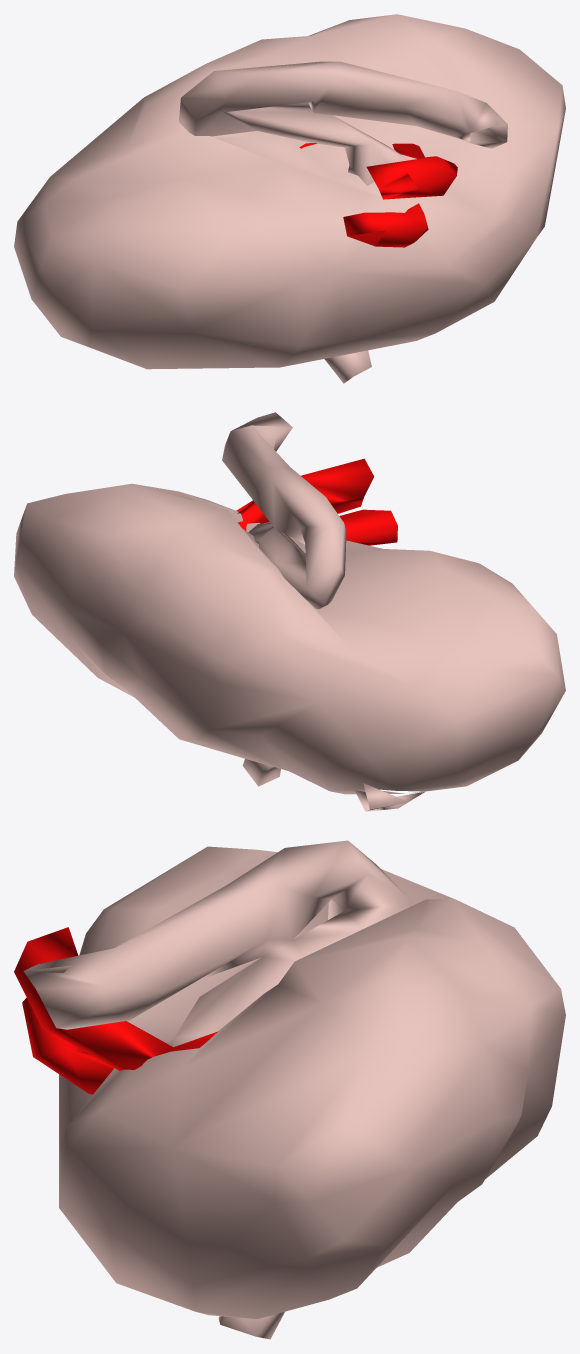
The model's file is lymph_node.glb.
3 views of the same model, one above another, from view 1: azimuth 30°, elevation 25°; view 2: azimuth 150°, elevation 25°; view 3: azimuth 270°, elevation 25° (orthographic). The views are drawn at different scales.
Parts seen in each view (by area): view 1: Yao_afferent_lymphatic_vessel, Yao_blood_vasculature; view 2: Yao_afferent_lymphatic_vessel, Yao_blood_vasculature; view 3: Yao_afferent_lymphatic_vessel, Yao_blood_vasculature.
Part boxes in pixels (x1,y1,x2,y2): Yao_afferent_lymphatic_vessel: (14, 14, 565, 383); Yao_blood_vasculature: (299, 143, 457, 247); Yao_afferent_lymphatic_vessel: (14, 412, 565, 811); Yao_blood_vasculature: (236, 458, 397, 545); Yao_afferent_lymphatic_vessel: (23, 840, 565, 1339); Yao_blood_vasculature: (14, 927, 217, 1094).
Size of the model in its own units: 0.0195 by 0.0112 by 0.0125.
